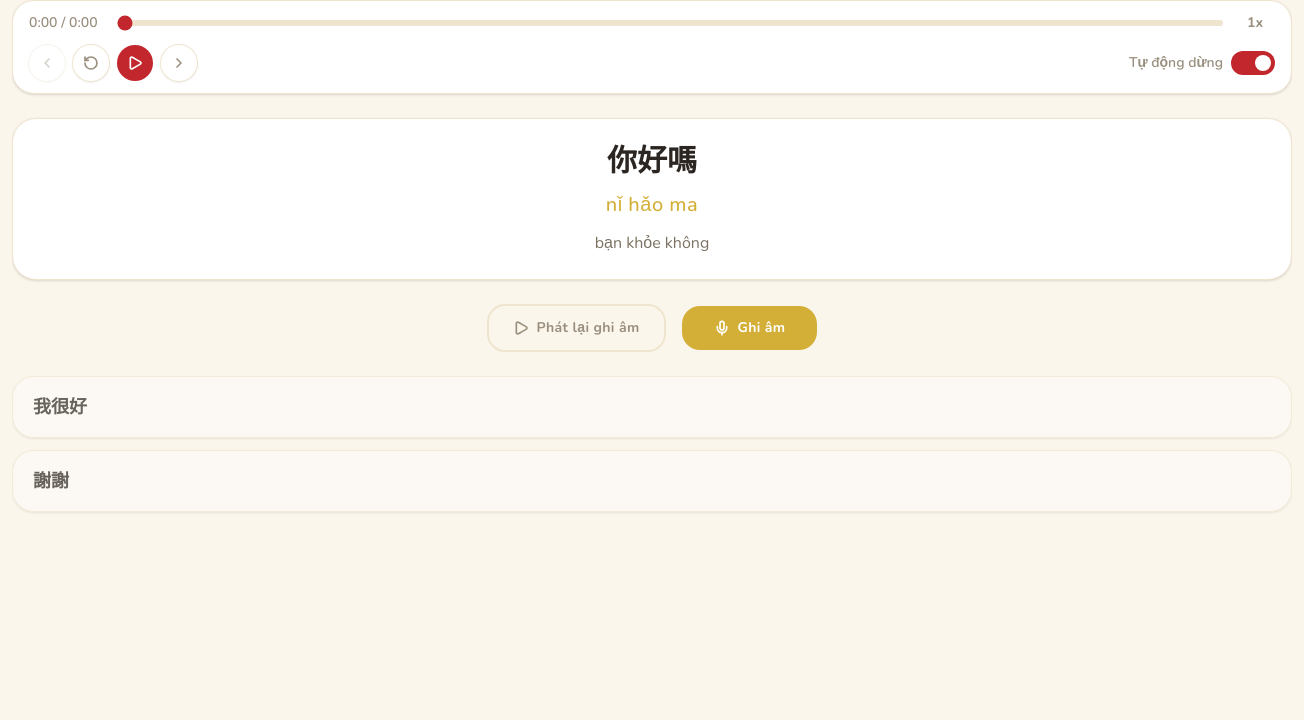
Test: ShadowingScreen › shows a "not recognized, try again" message and clears processing state if recognition never settles within 10 seconds
Click the button "Ghi âm": (749, 328) [682,306,817,350]
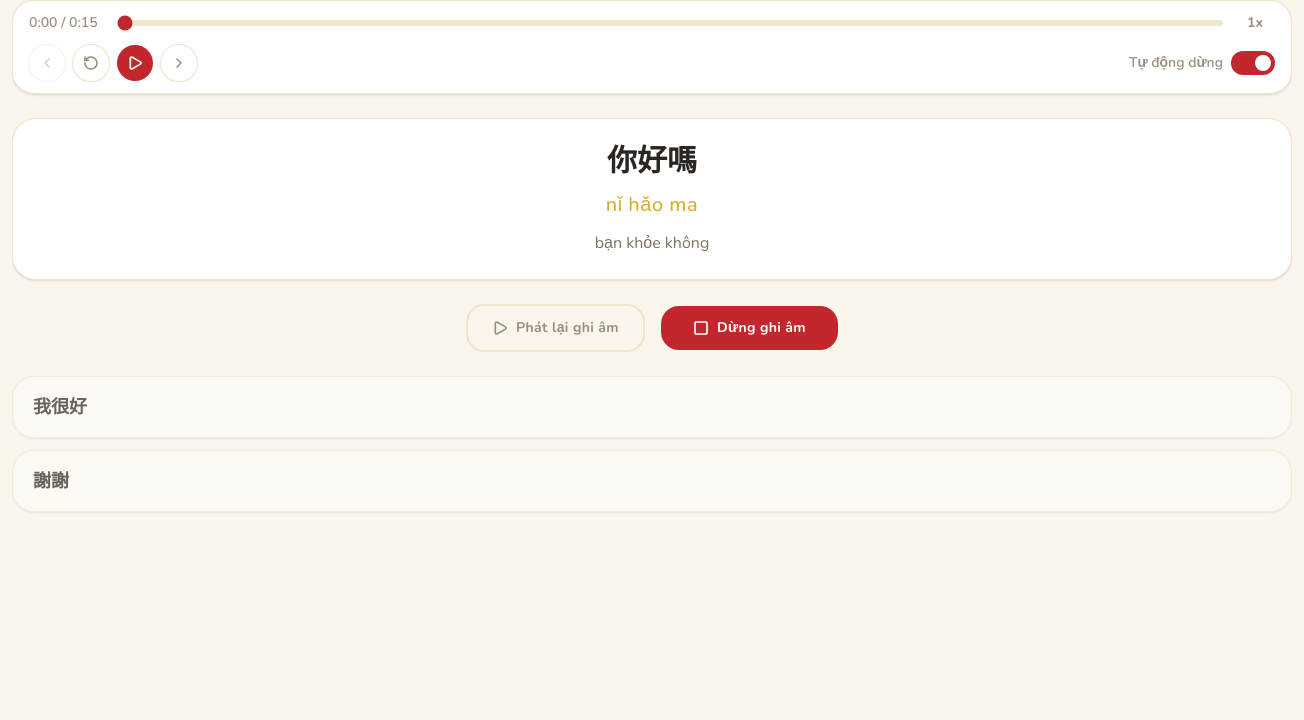
Click the button "Dừng ghi âm": (750, 328) [661,306,838,350]
Wait 10000 ms
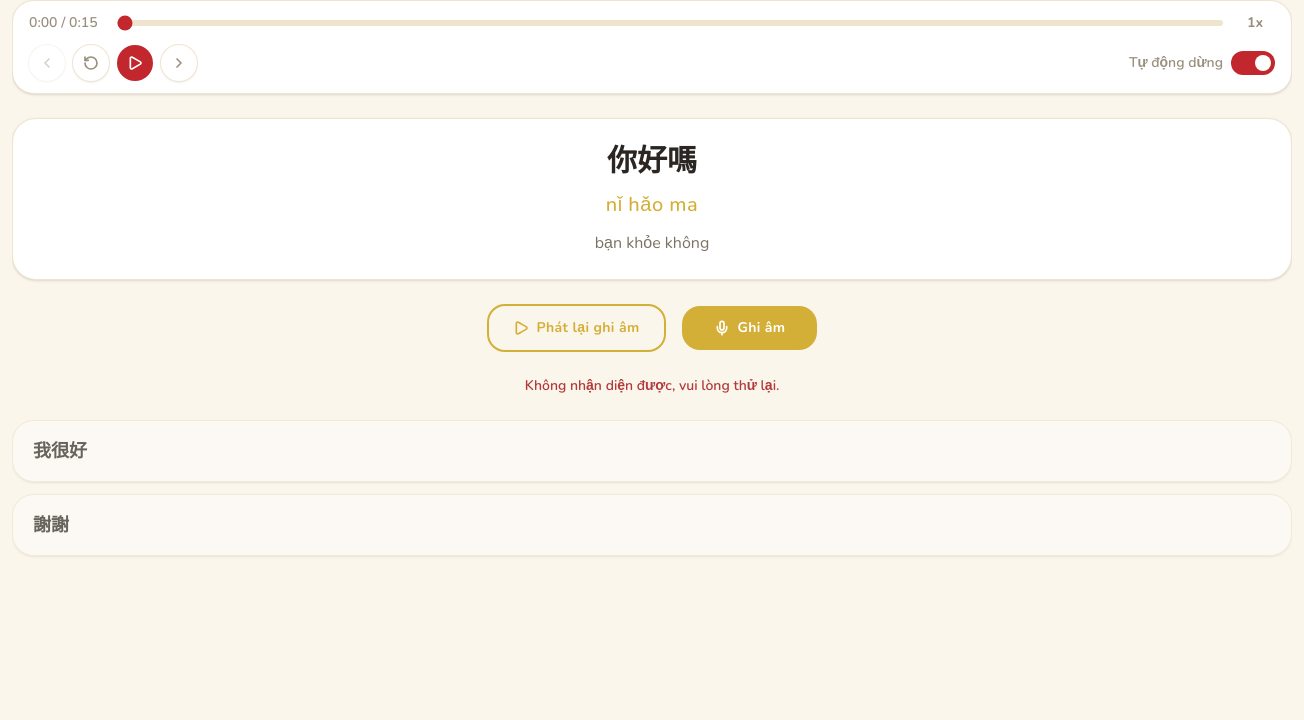
expect the text "Không nhận diện được, vui lòng thử lại." is shown: met, box [525,376,779,395]
expect the button "Ghi âm" is shown: met, box [682,306,817,350]
